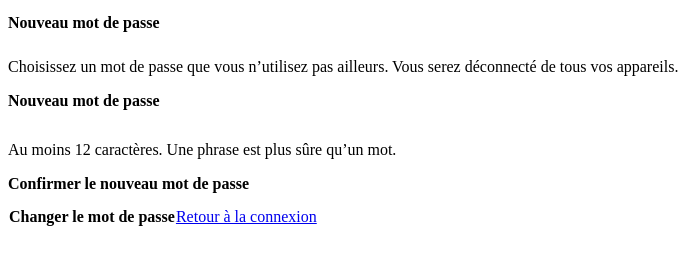
Test: ResetPasswordPage › sends nothing for an empty password, and says so on the box
Click the button "Changer le mot de passe".
click(92, 217)  # box [8,208,176,226]
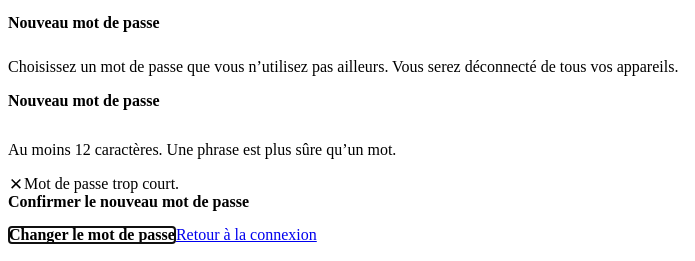
Result: the text "Mot de passe trop court." is shown at [24,175,179,193]
